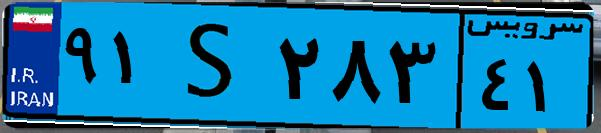1: (525, 38, 570, 115), (110, 28, 158, 98)
2: (270, 28, 330, 110)
3: (385, 28, 445, 110)
4: (475, 38, 525, 113)
8: (330, 28, 385, 110)
9: (57, 26, 110, 100)
S: (158, 12, 270, 120)
